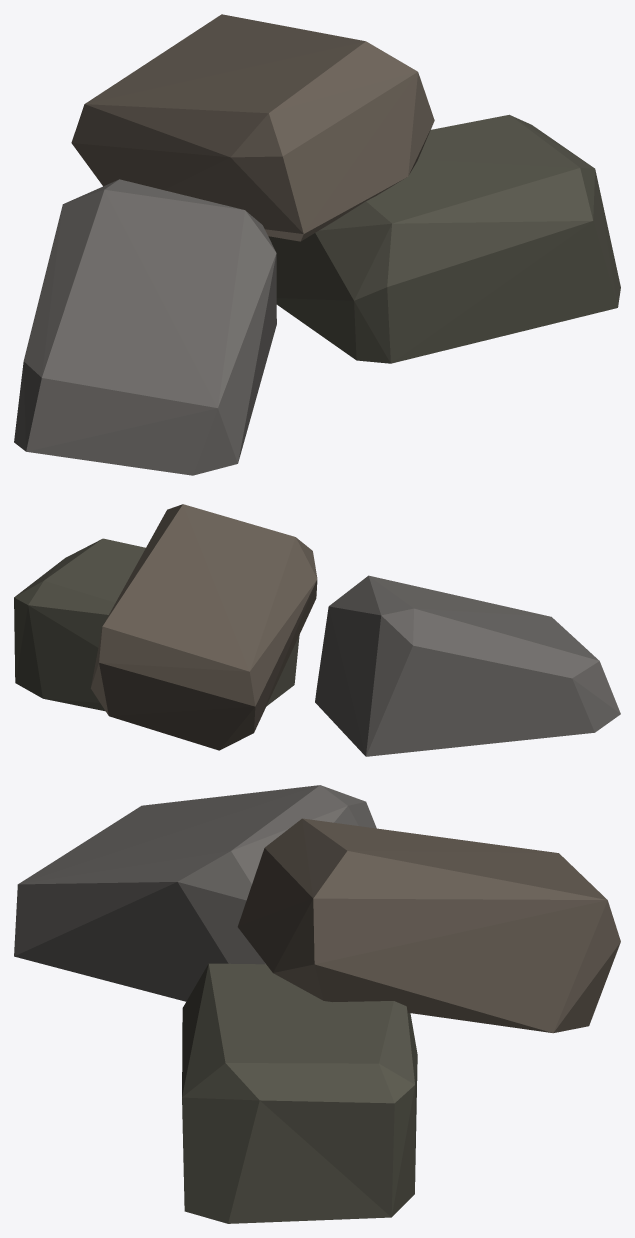
The model's file is um_wall006.FBX.
3 renders of one model, top to bottom at view 1: azimuth 30°, elevation 25°; view 2: azimuth 150°, elevation 25°; view 3: azimuth 270°, elevation 25°, orthographic. The views are drawn at different scales.
Parts seen in each view (by area): view 1: um_wall006; view 2: um_wall006; view 3: um_wall006.
Part boxes in pixels (x1,y1,x2,y2): um_wall006: (14, 14, 620, 475); um_wall006: (14, 504, 620, 756); um_wall006: (14, 785, 620, 1223).
Size of the model in its own units: 1.61 by 0.6108 by 1.24.
